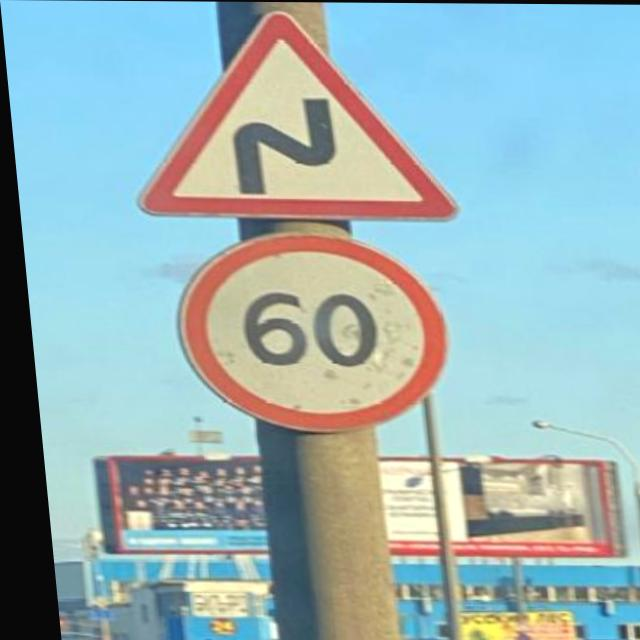limit60: (158, 230, 448, 435)
